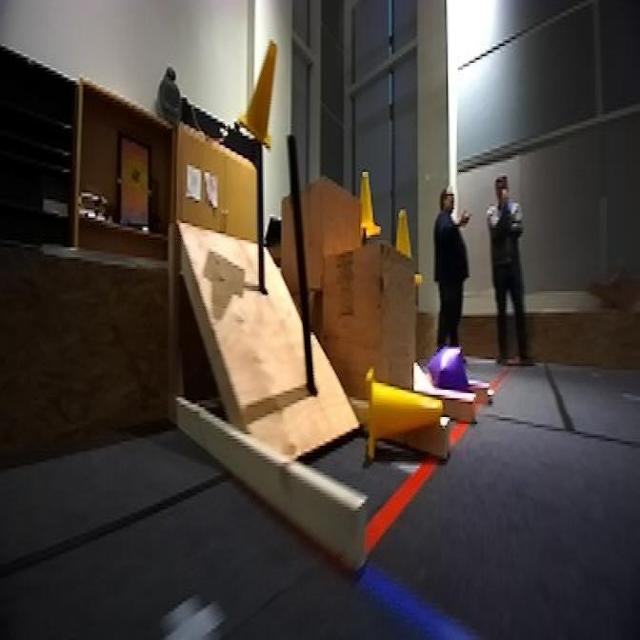frc_cone: (367, 371, 437, 456), (238, 33, 279, 158), (349, 167, 383, 242), (393, 204, 424, 281)
frc_cube: (430, 347, 470, 400)
